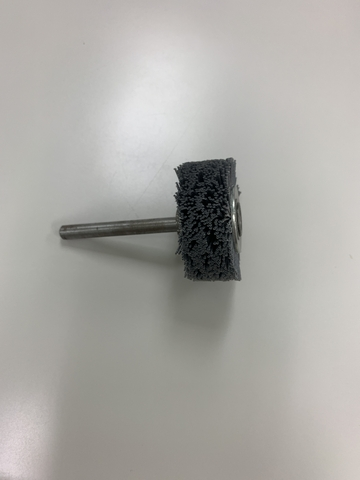Wheel Brush: (55, 155, 250, 282), (56, 160, 258, 282), (108, 142, 253, 303)
